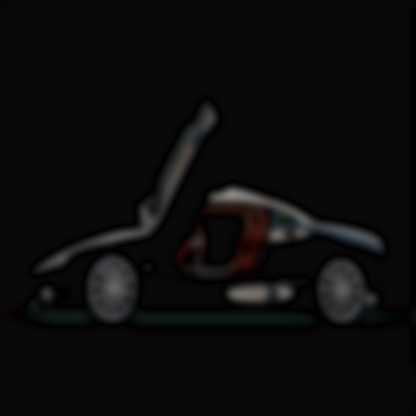Vehicle: (27, 96, 389, 339)
